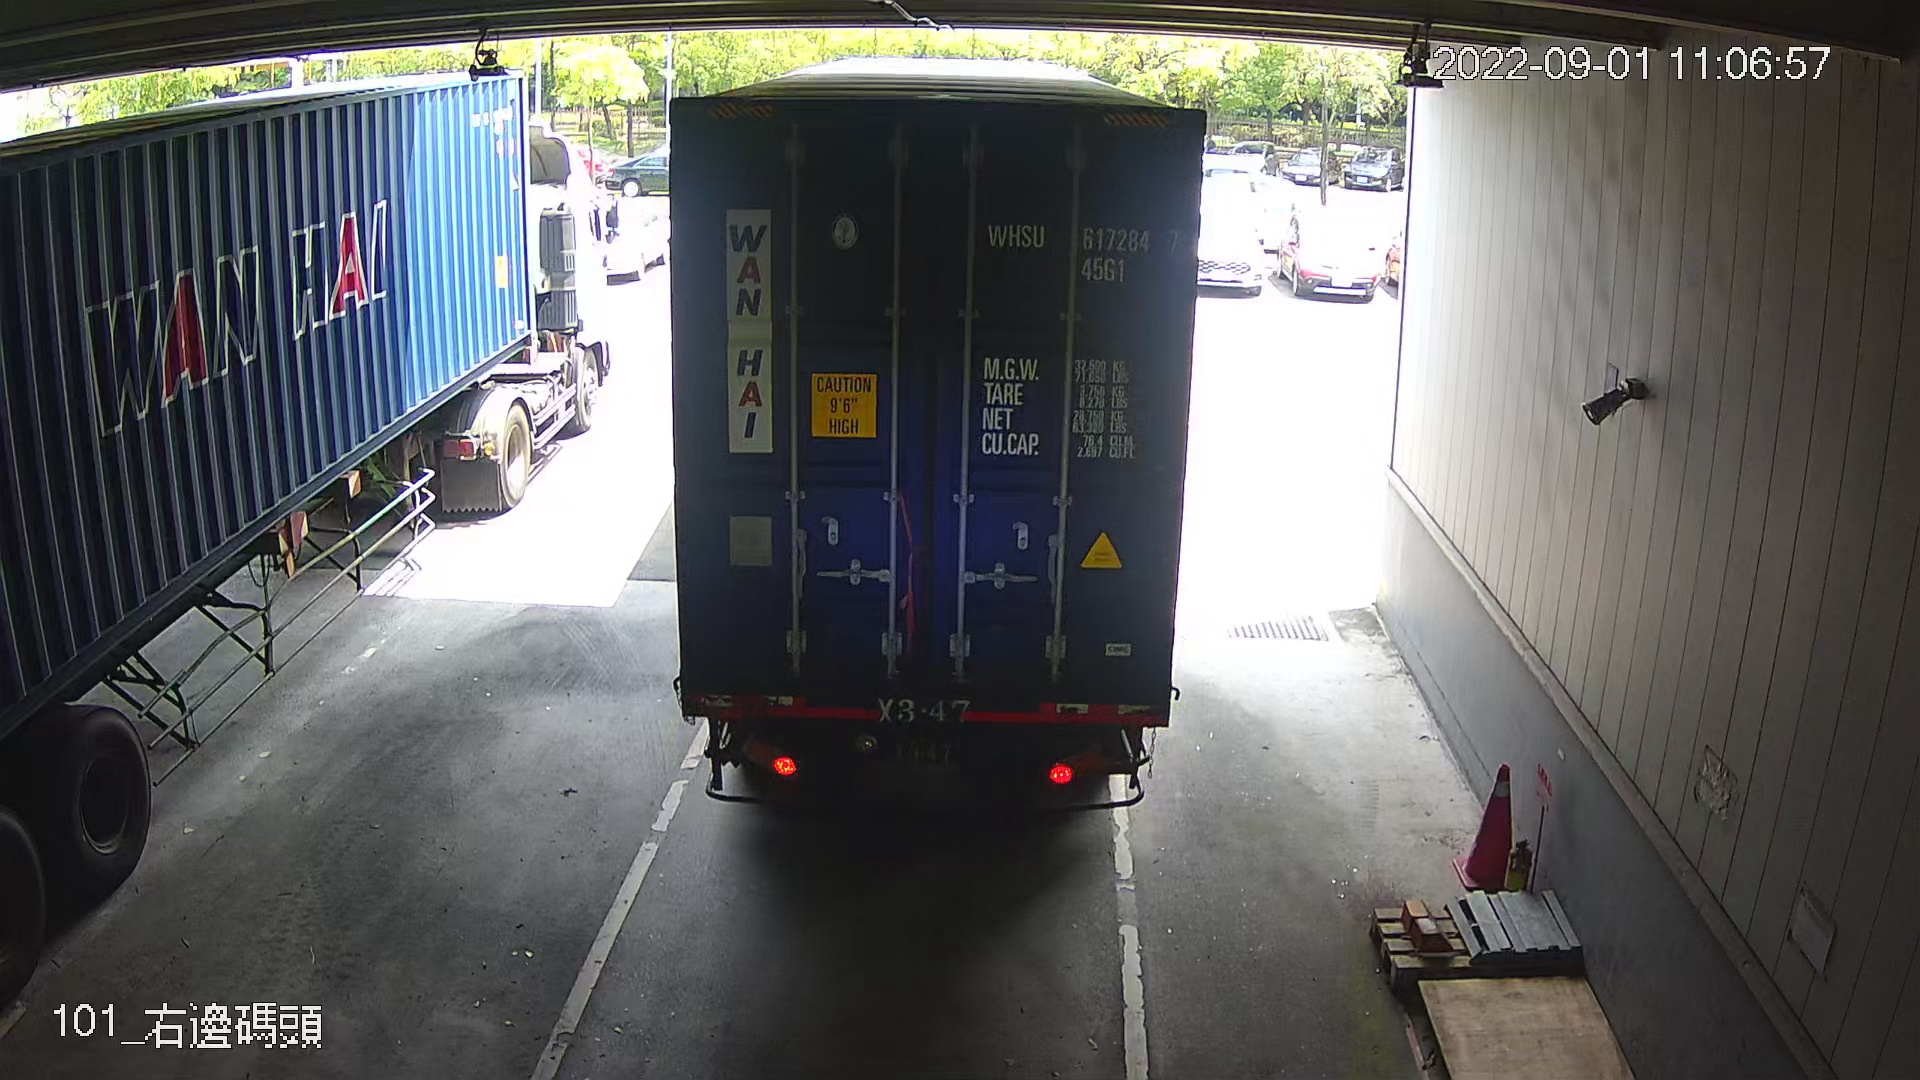container: (984, 215, 1188, 290)
